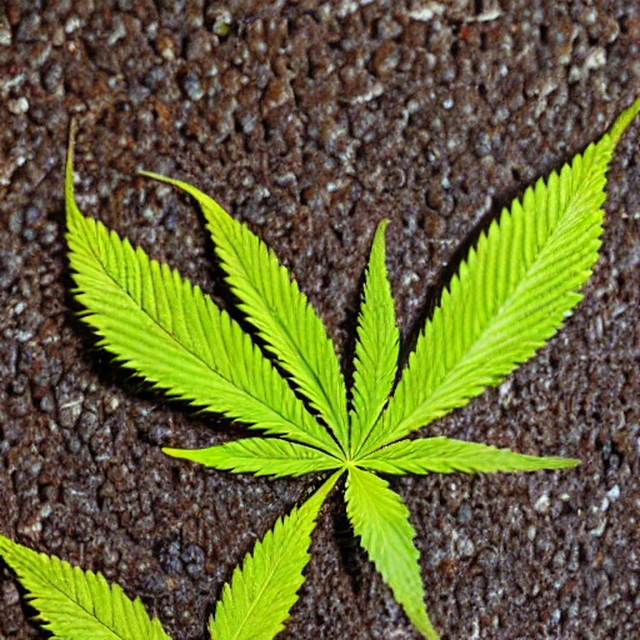Marijuana Leaf: (54, 87, 639, 639), (0, 529, 180, 639)
